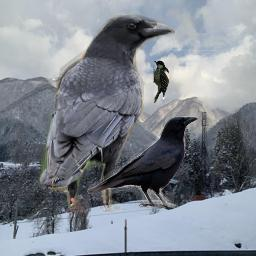Crow: (36, 15, 175, 212), (87, 116, 198, 208)
Woodpecker: (153, 60, 169, 103)
